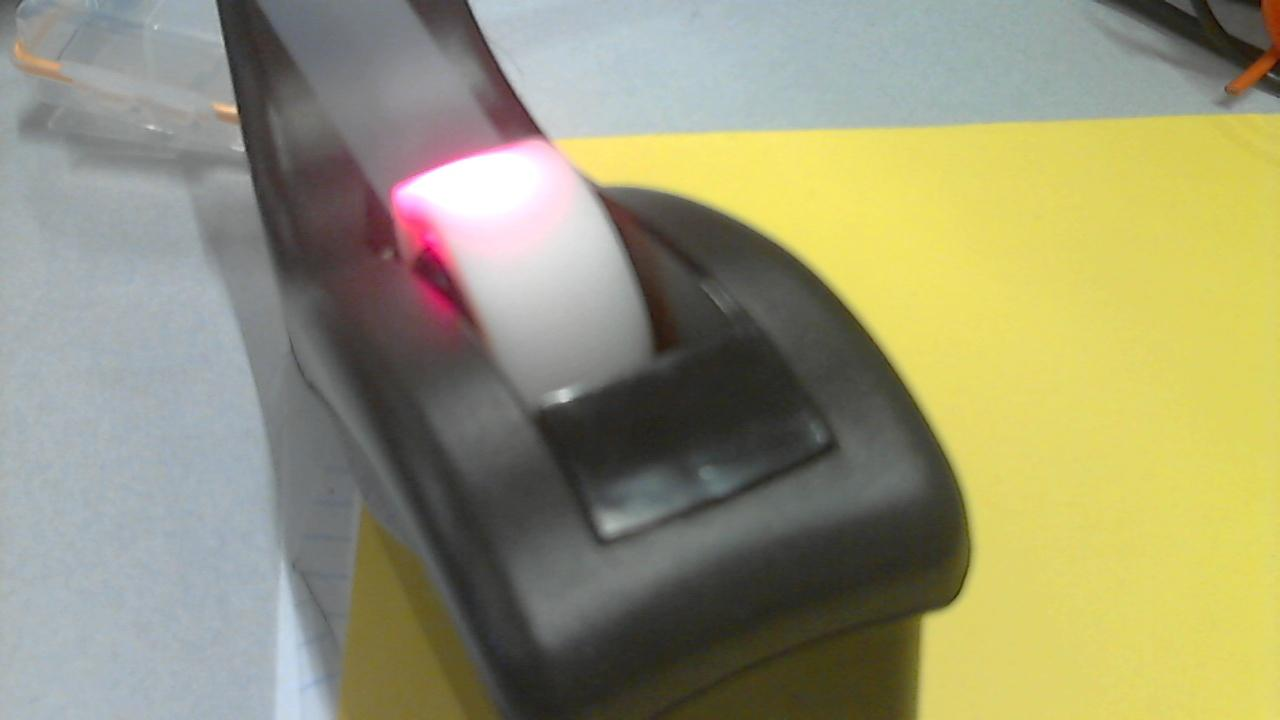Object desktop tape dispenser - Material plastic tape - Pdfname 8pMd29OsIRjD: (379, 135, 590, 252)
